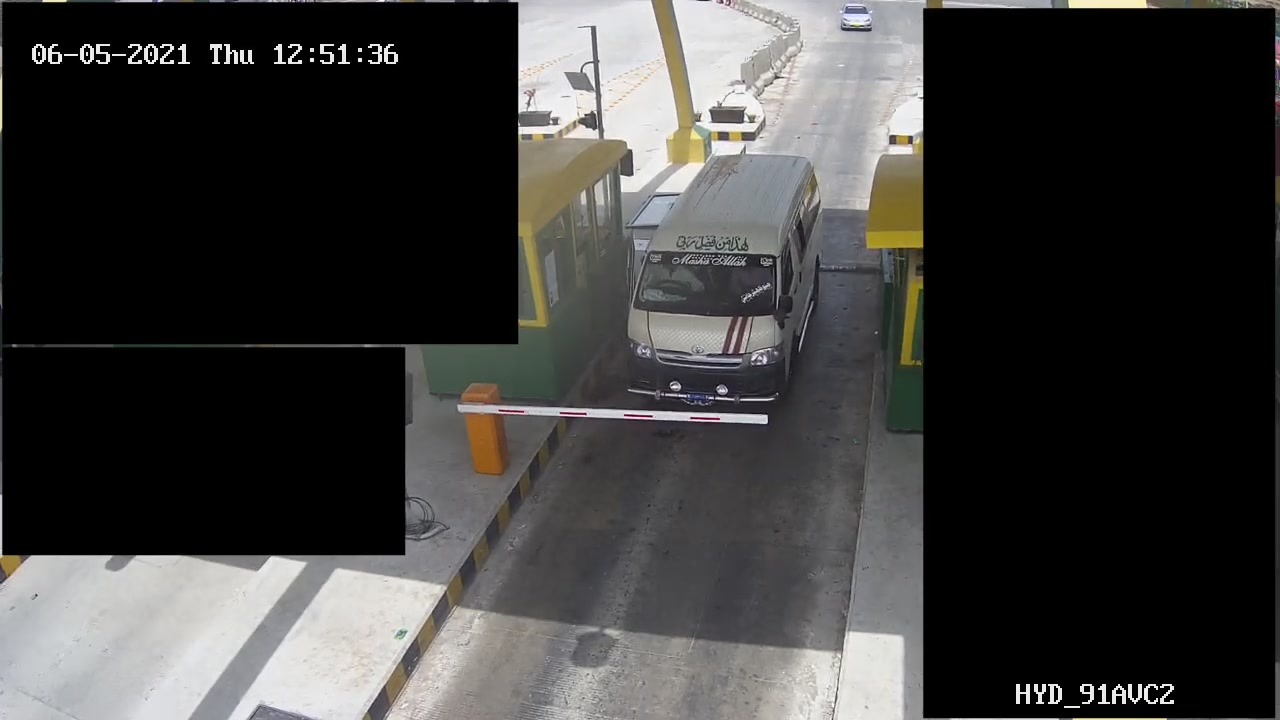F2: (622, 145, 831, 411)
